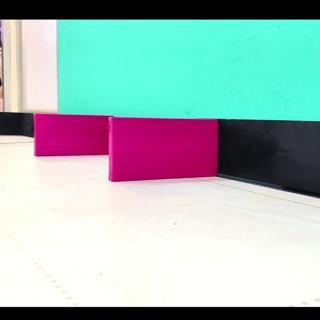xparking: (111, 119, 217, 180), (35, 112, 108, 155)
